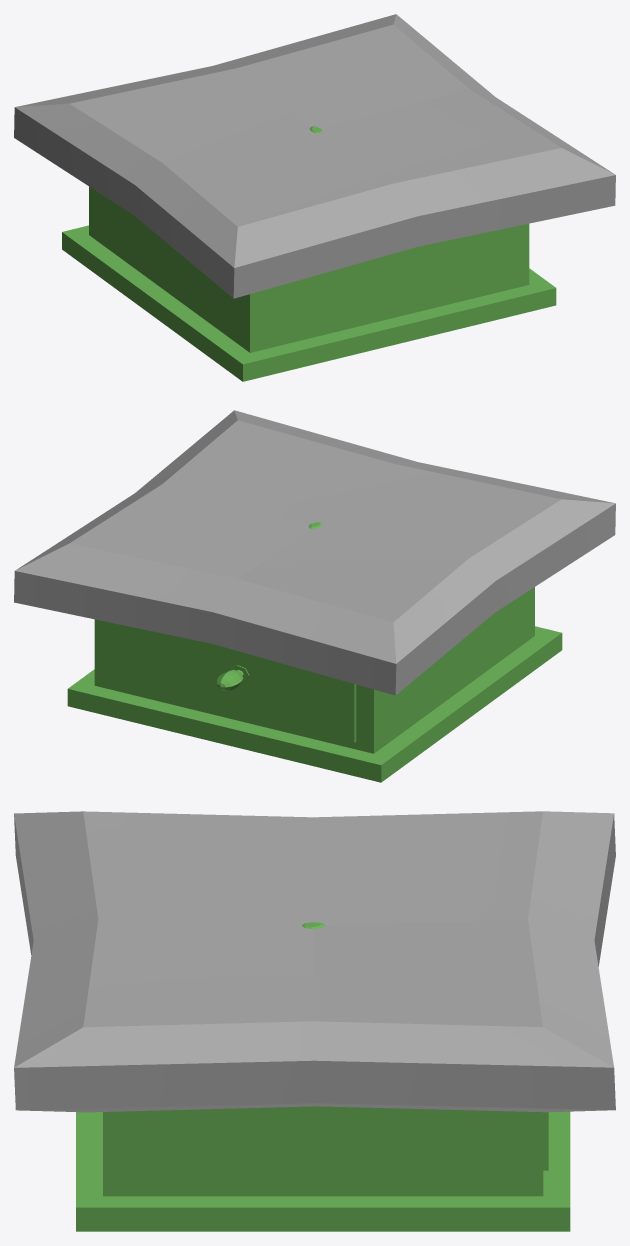
File: Ottoman.fbx
3 views of the same model, one above another, from view 1: azimuth 30°, elevation 25°; view 2: azimuth 150°, elevation 25°; view 3: azimuth 270°, elevation 25° (orthographic). The views are drawn at different scales.
Parts seen in each view (by area): view 1: Pillow7; view 2: Pillow7, polySurface7; view 3: Pillow7.
Boxes of the visible parts, box(x1,y1,x2,y2) form: Pillow7: box(14, 14, 615, 381); Pillow7: box(14, 410, 615, 782); polySurface7: box(114, 623, 356, 742); Pillow7: box(14, 811, 615, 1231).
Bounding box in the file's own units: 144 × 55.54 × 144.
